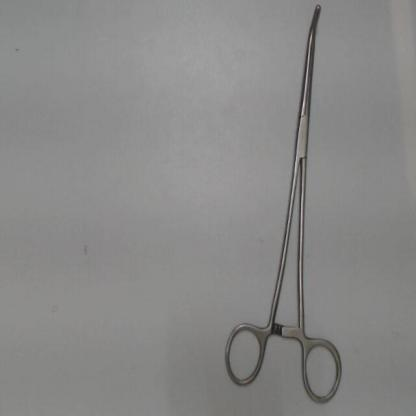Lahey Forceps: (220, 1, 346, 409)
